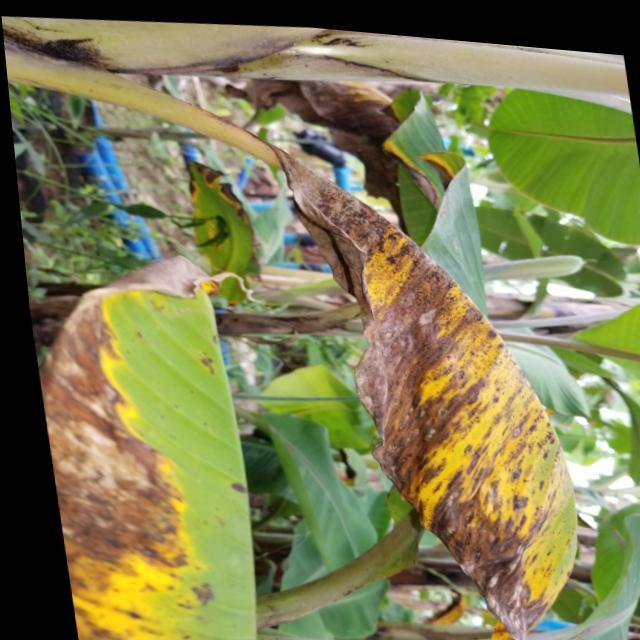Early_rust: (297, 182, 596, 640), (25, 252, 276, 640), (335, 76, 478, 212)
